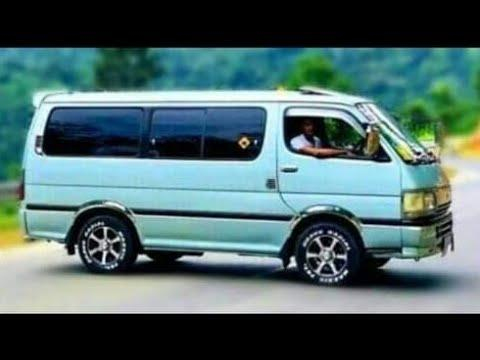van: (20, 88, 455, 285)
